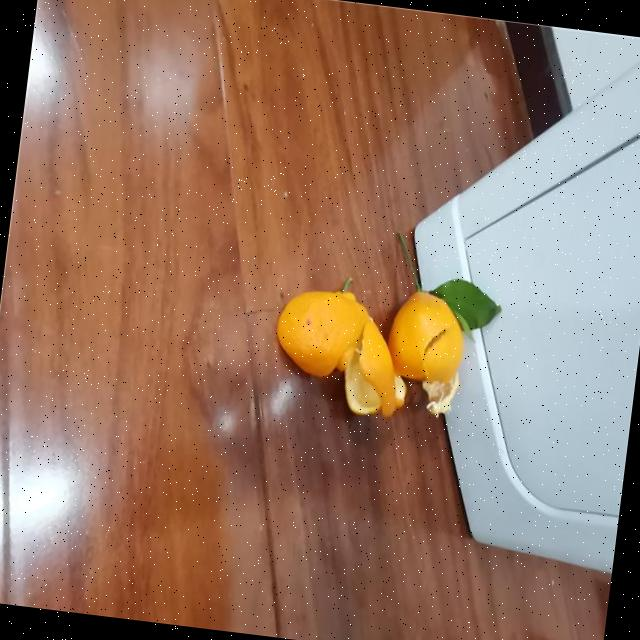orange-peel: (268, 278, 370, 382), (382, 286, 469, 386)
